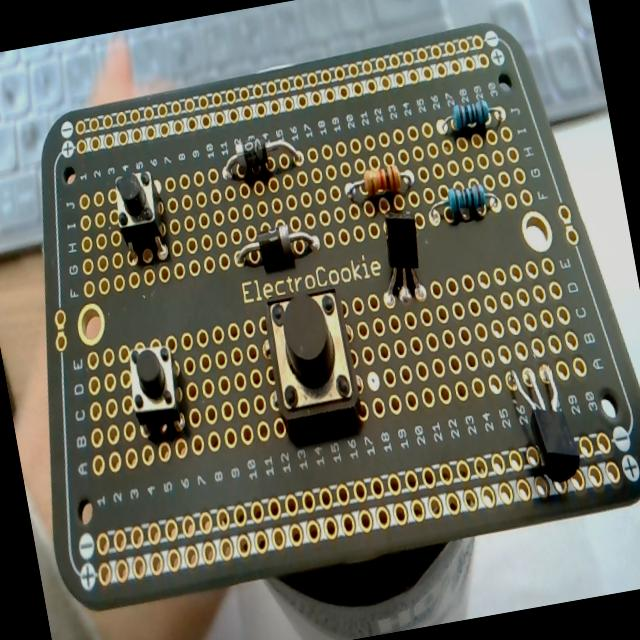diode: (216, 126, 304, 184), (230, 217, 322, 271), (339, 161, 415, 211)
resistor: (445, 180, 487, 223), (449, 96, 492, 134)
switch: (258, 280, 364, 432), (121, 338, 188, 440), (108, 164, 172, 265)
transistor: (494, 342, 586, 486), (369, 204, 432, 310)
